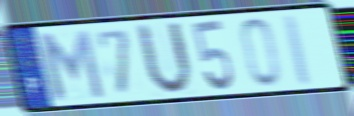0: (237, 15, 286, 91)
5: (190, 18, 235, 93)
7: (95, 28, 132, 97)
I: (281, 12, 315, 88)
M: (34, 27, 108, 102)
U: (133, 20, 195, 98)
